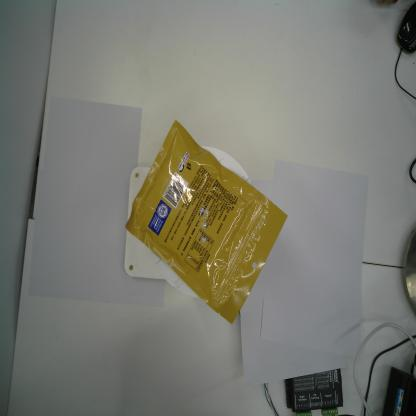Dried Fruit: (124, 118, 290, 326)
